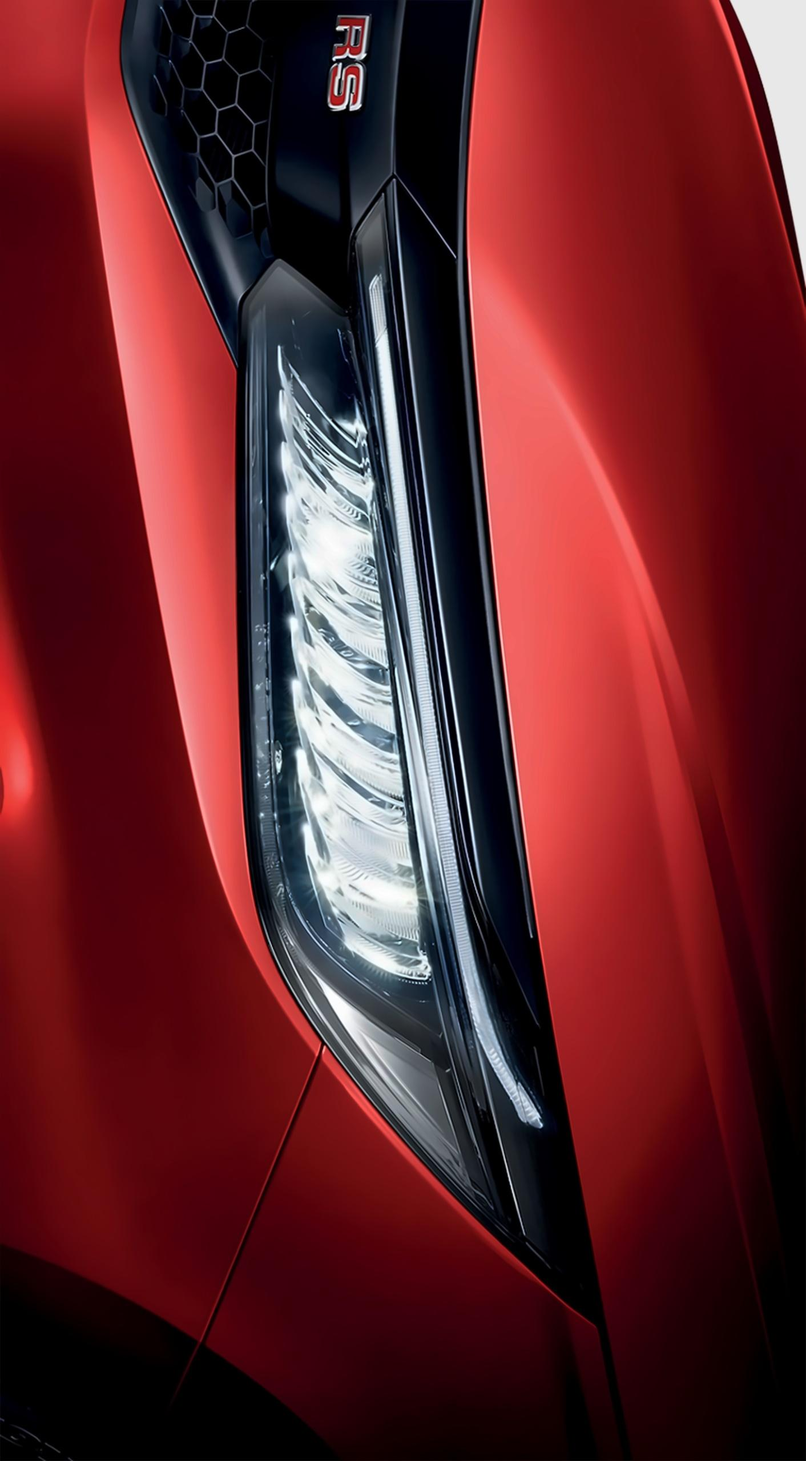Car hood: (468, 0, 806, 1461)
Front bumper: (0, 0, 316, 1336)
Headlight - -L-: (226, 183, 590, 1328)
